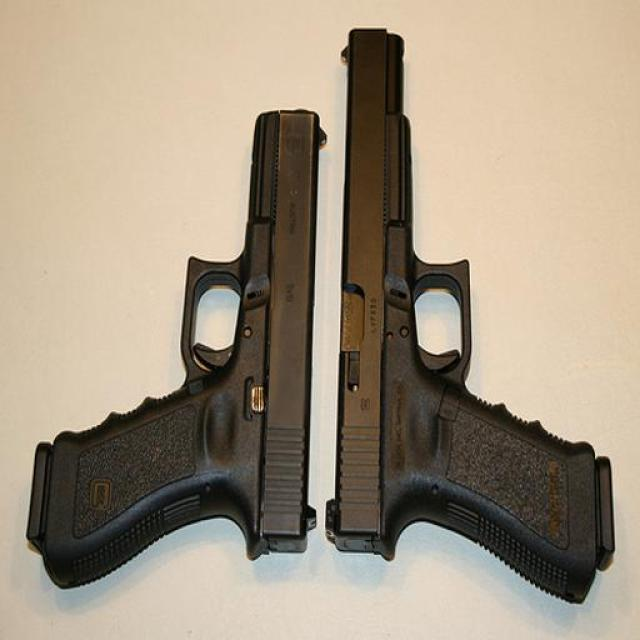pistol: (324, 26, 615, 601), (20, 107, 326, 591)
